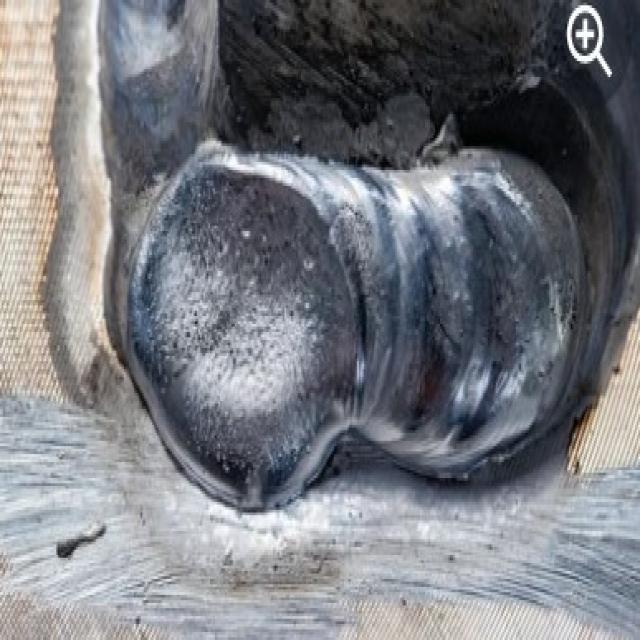Bad Welding: (99, 0, 565, 520)
Excess Reinforcement: (121, 138, 598, 517)
